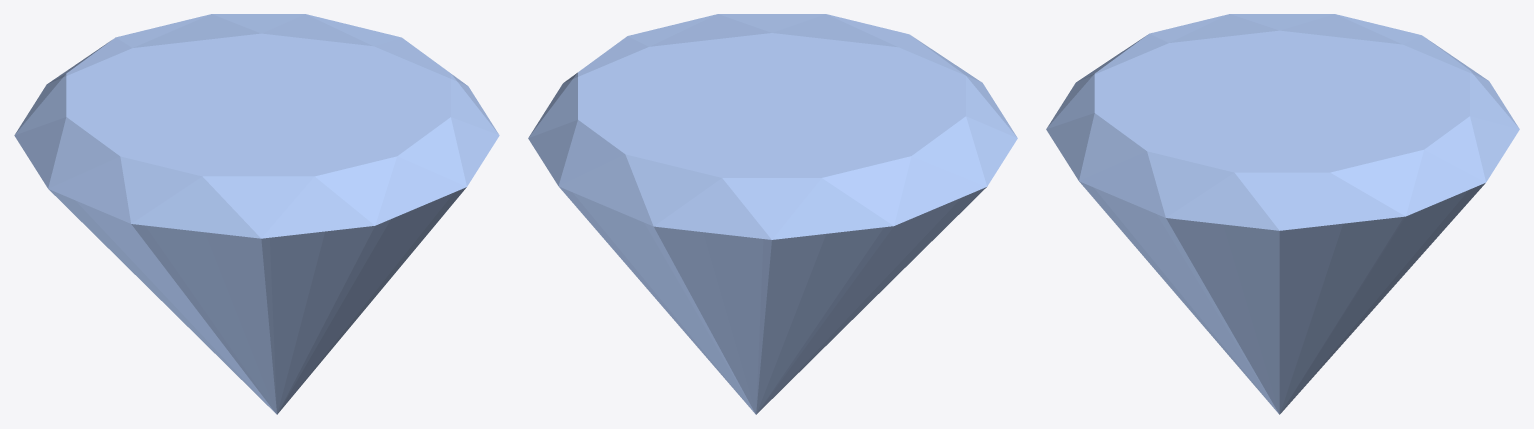
The model's file is diamond.dae.
The picture shows the model from 3 angles, left to right: view 1: azimuth 30°, elevation 25°; view 2: azimuth 150°, elevation 25°; view 3: azimuth 270°, elevation 25°; orthographic projection. The views are drawn at different scales.
Visible parts, largest first — view 1: Diamond; view 2: Diamond; view 3: Diamond.
Boxes of the visible parts, x1=… form: Diamond: x1=14, y1=14, x2=499, y2=414; Diamond: x1=528, y1=14, x2=1017, y2=414; Diamond: x1=1046, y1=14, x2=1519, y2=414.
Bounding box in the file's own units: 566 × 566 × 414.
